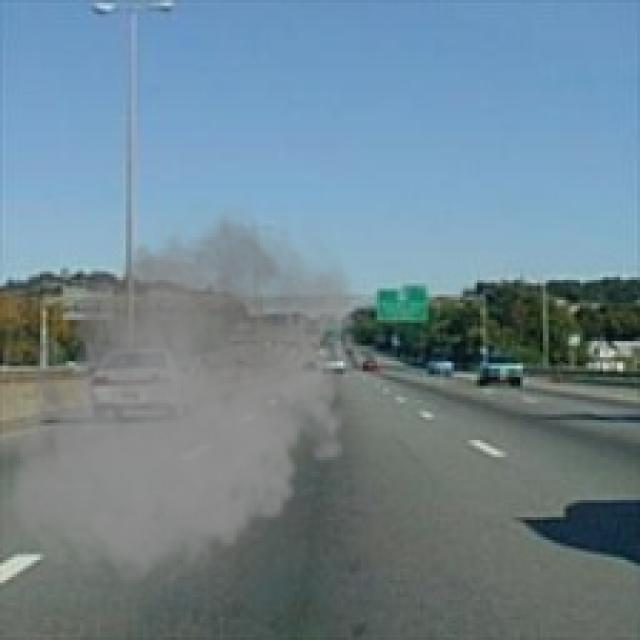smoke: (6, 192, 368, 594)
